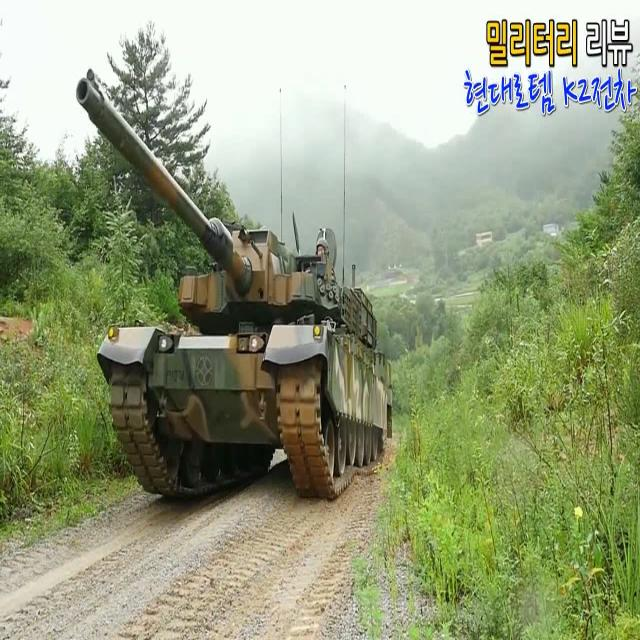korea tank: (73, 64, 395, 501)
